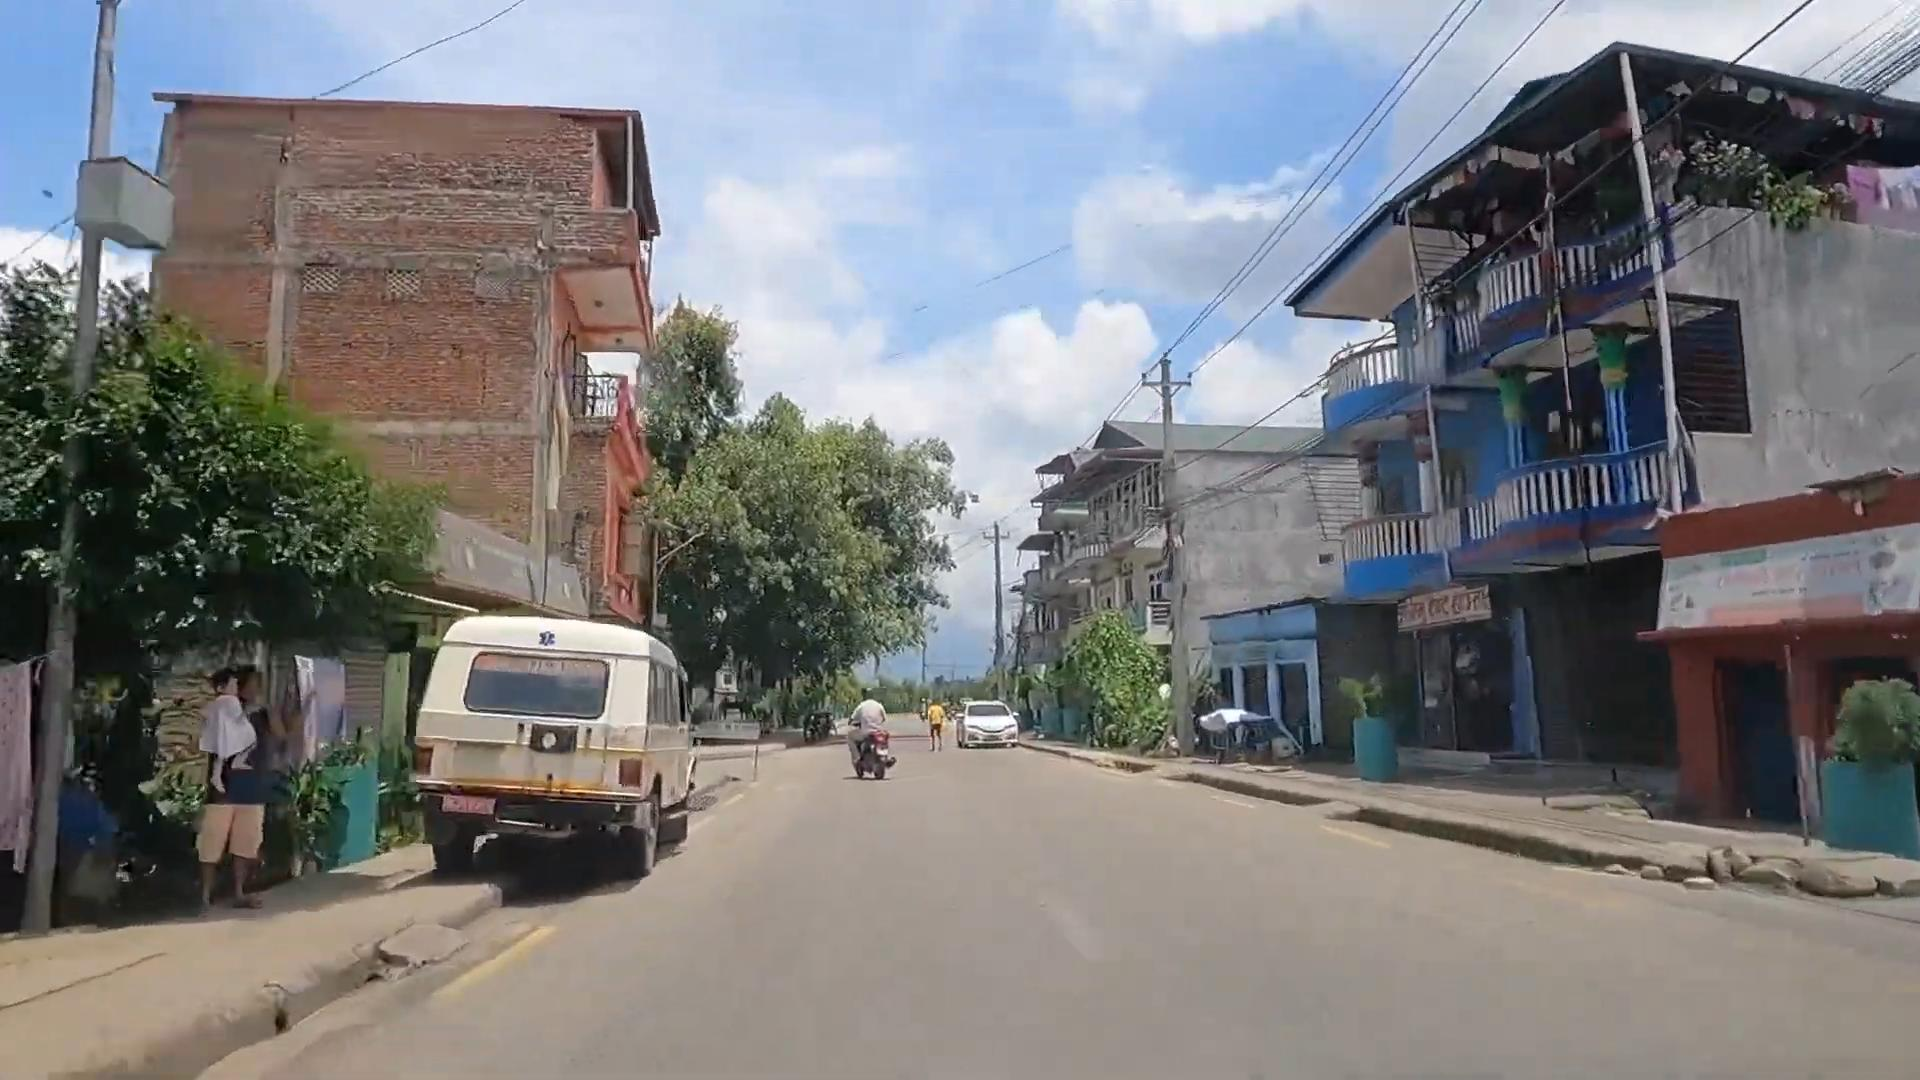ambulance: (398, 595, 702, 885)
car: (953, 695, 1025, 752)
scooter: (841, 720, 901, 787)
